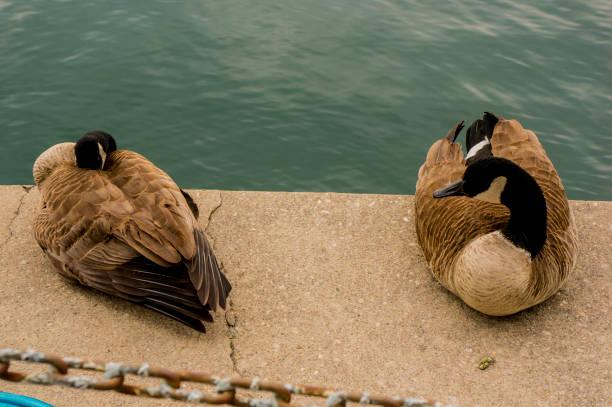Canadian-Goose: (29, 129, 234, 330), (415, 113, 579, 319)
